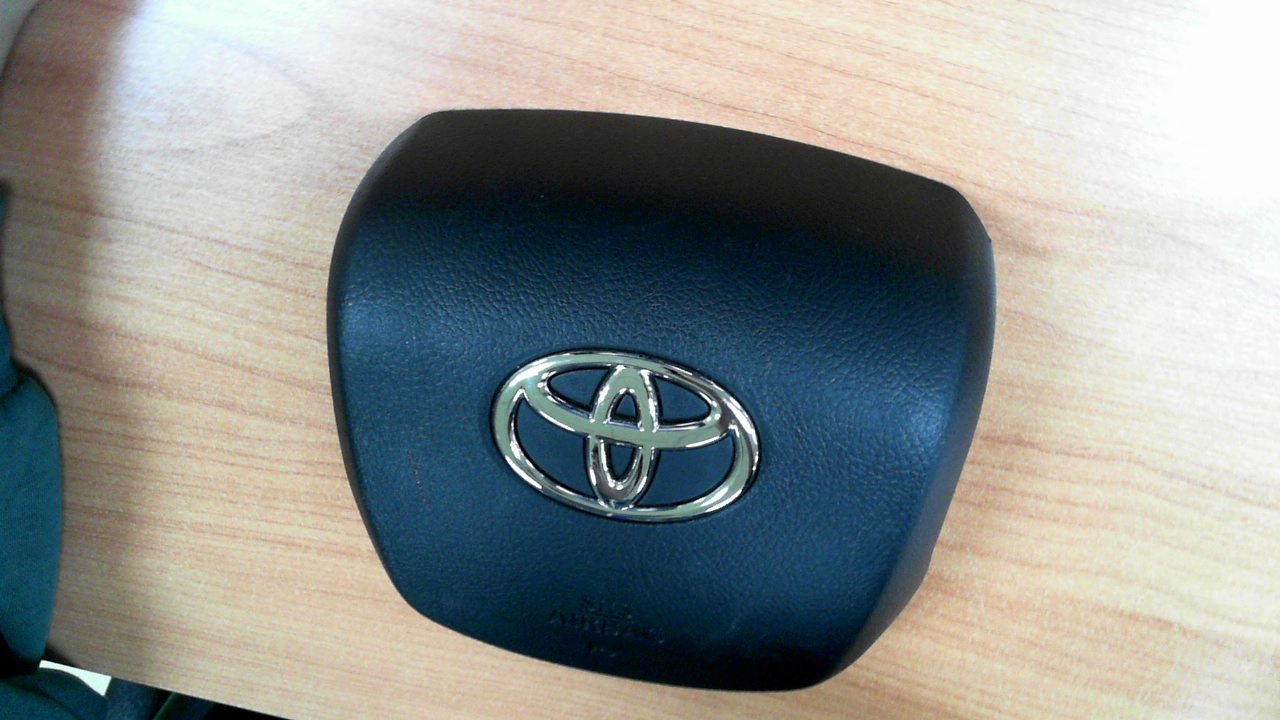Airbag: (326, 107, 998, 694)
Toyota: (492, 349, 760, 523)
